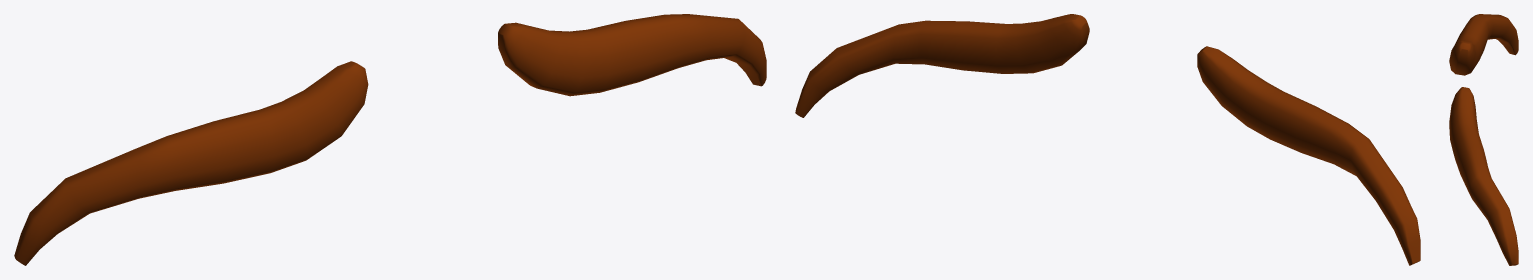
File: Eyebrows_22_02.fbx
3 views of the same model, side by side, from view 1: azimuth 30°, elevation 25°; view 2: azimuth 150°, elevation 25°; view 3: azimuth 270°, elevation 25° (orthographic). The views are drawn at different scales.
Visible parts, largest first — view 1: Eyebrows_22_02; view 2: Eyebrows_22_02; view 3: Eyebrows_22_02.
Boxes of the visible parts, x1=… form: Eyebrows_22_02: x1=14, y1=14, x2=766, y2=265; Eyebrows_22_02: x1=795, y1=14, x2=1420, y2=265; Eyebrows_22_02: x1=1449, y1=14, x2=1518, y2=265.
Bounding box in the file's own units: 18.69 × 3.84 × 2.54.
